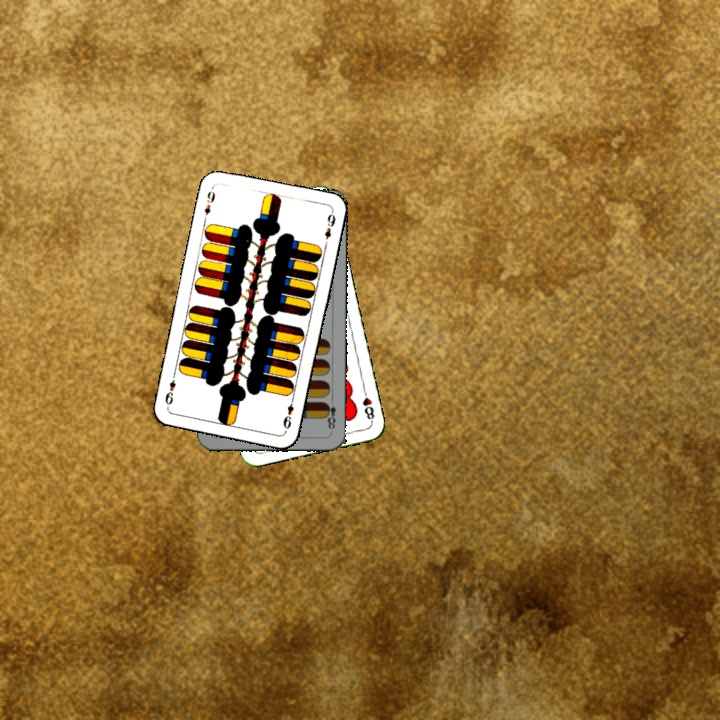E8: (321, 394, 338, 432)
E9: (279, 393, 297, 431), (200, 187, 218, 224)
H8: (358, 385, 377, 425)
